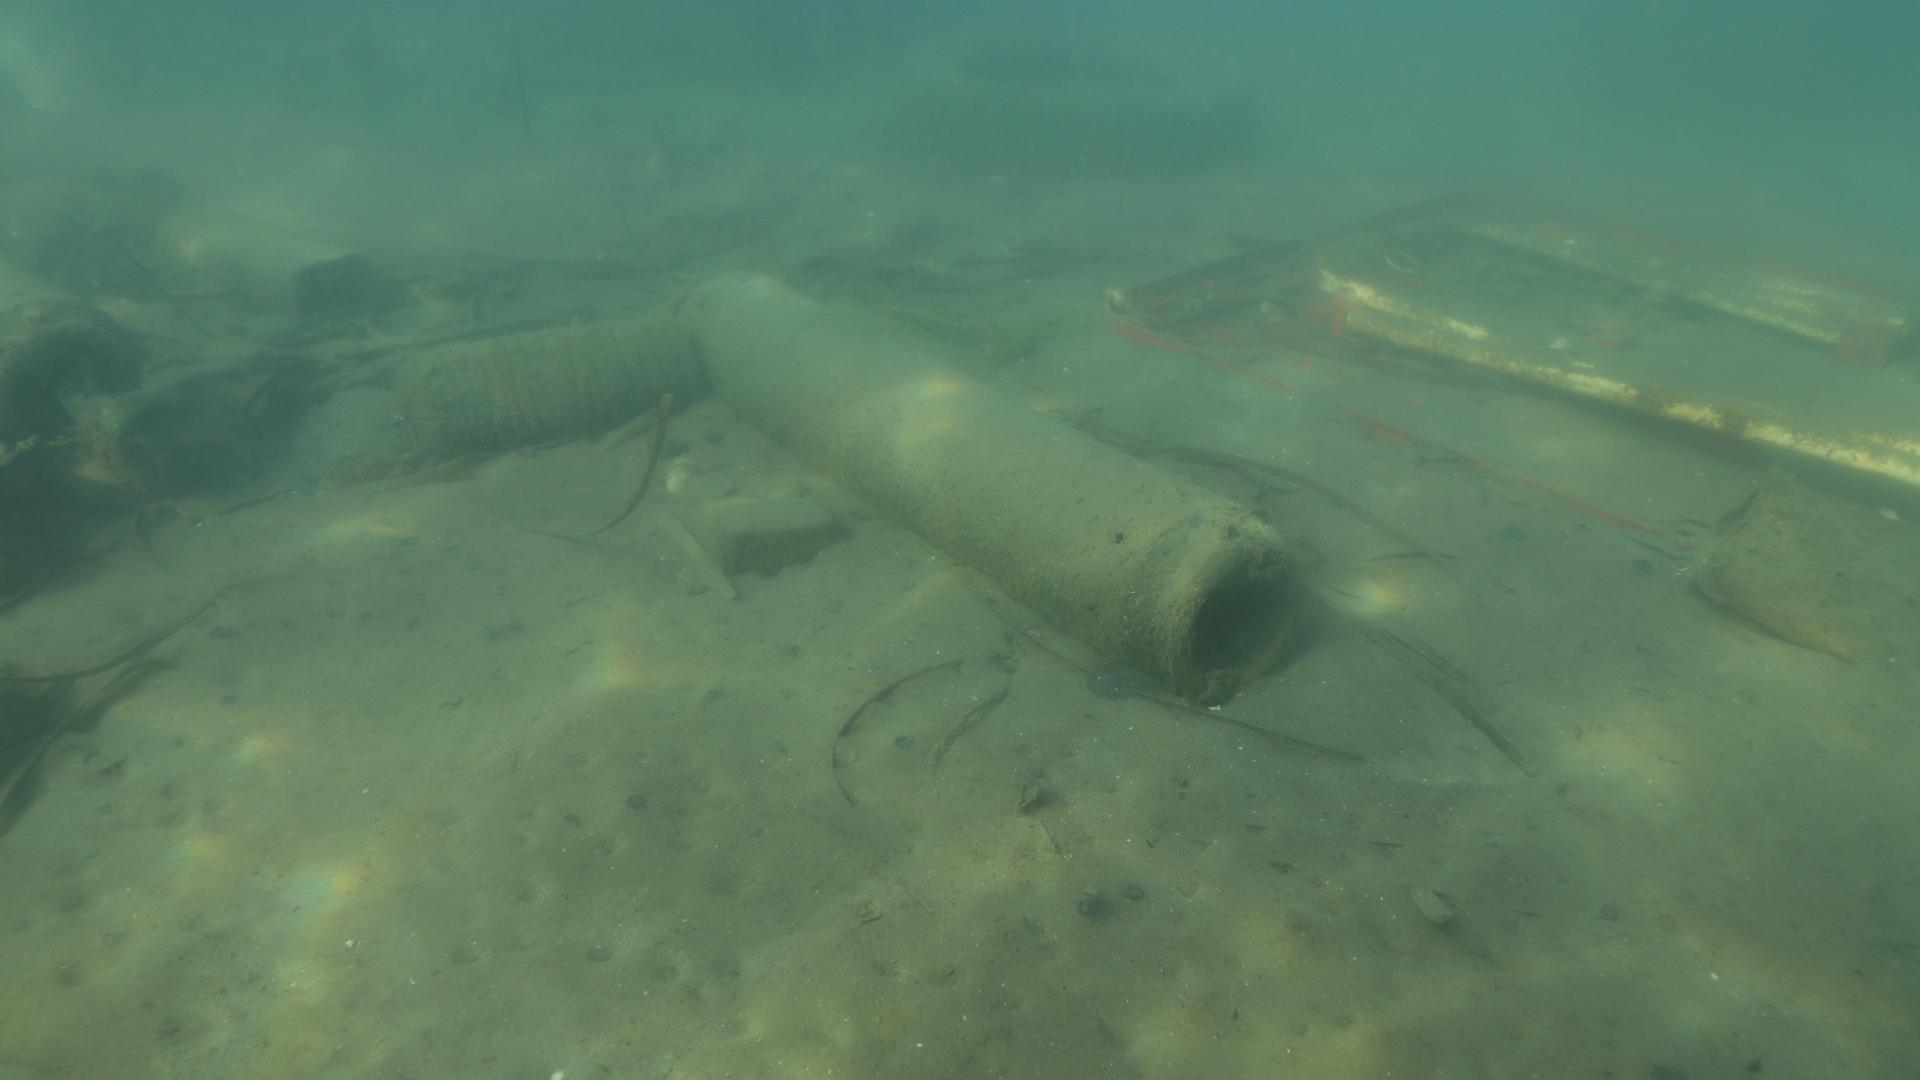eel fish trap: (676, 276, 1296, 705)
